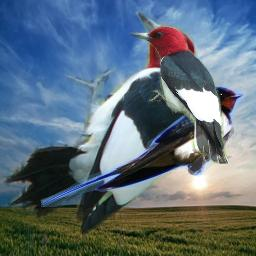Swallow: (39, 86, 244, 207)
Woodpecker: (1, 11, 198, 236), (127, 26, 232, 164)
